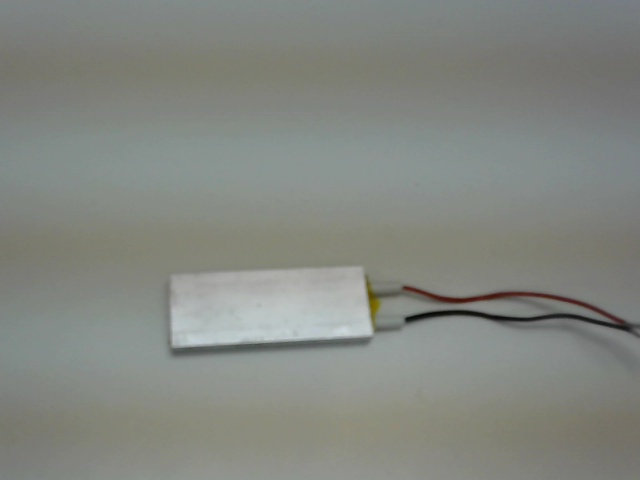heater: (161, 263, 446, 356)
